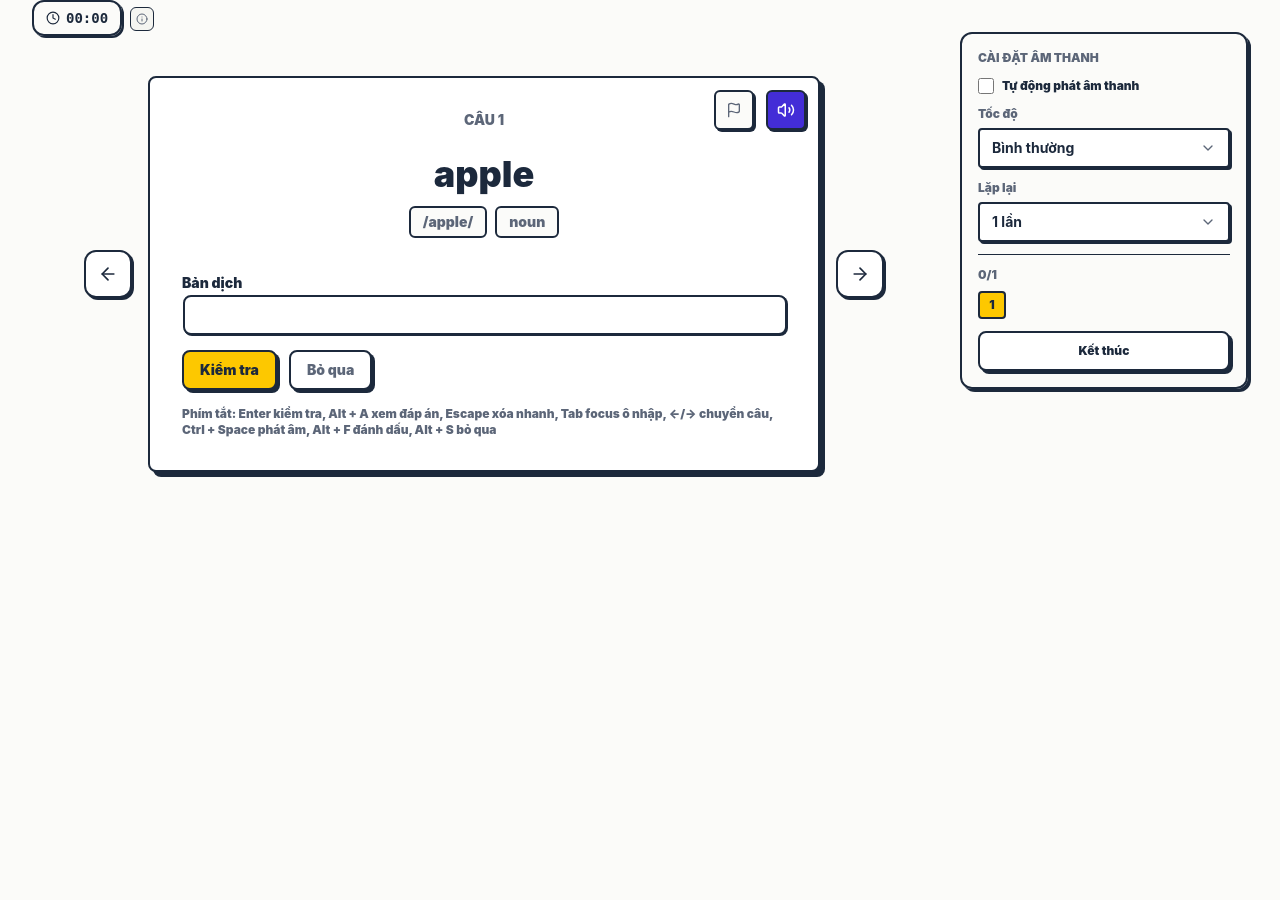
Test: QuizSessionPage › reveals the answer with Alt+R after an incorrect try
This screenshot has width=1280, height=900.
Type "chuối" into the field labelled "Bản dịch" at (485, 315), box [183, 295, 787, 335]
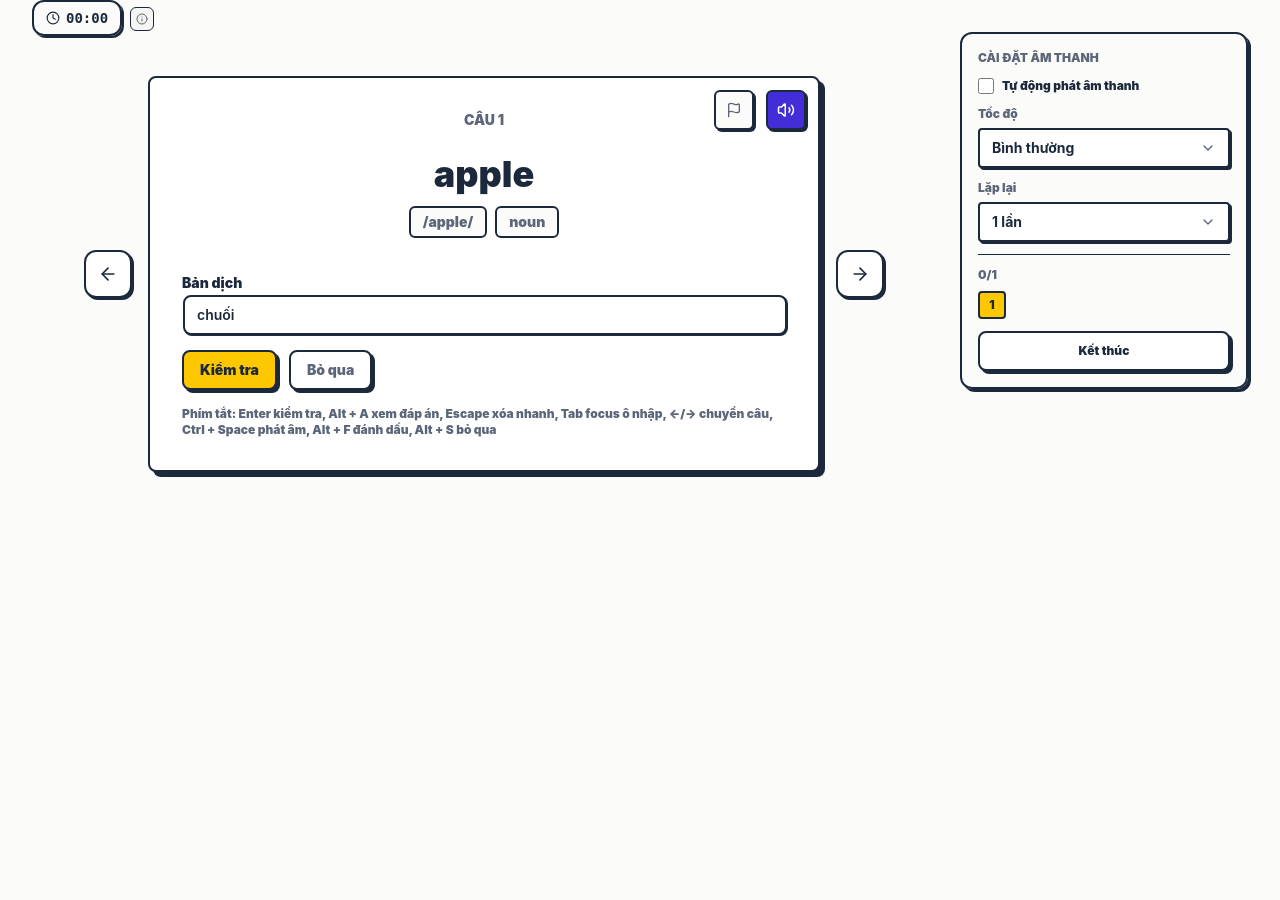
Click the button "Kiểm tra" at (229, 370), box [182, 350, 277, 390]
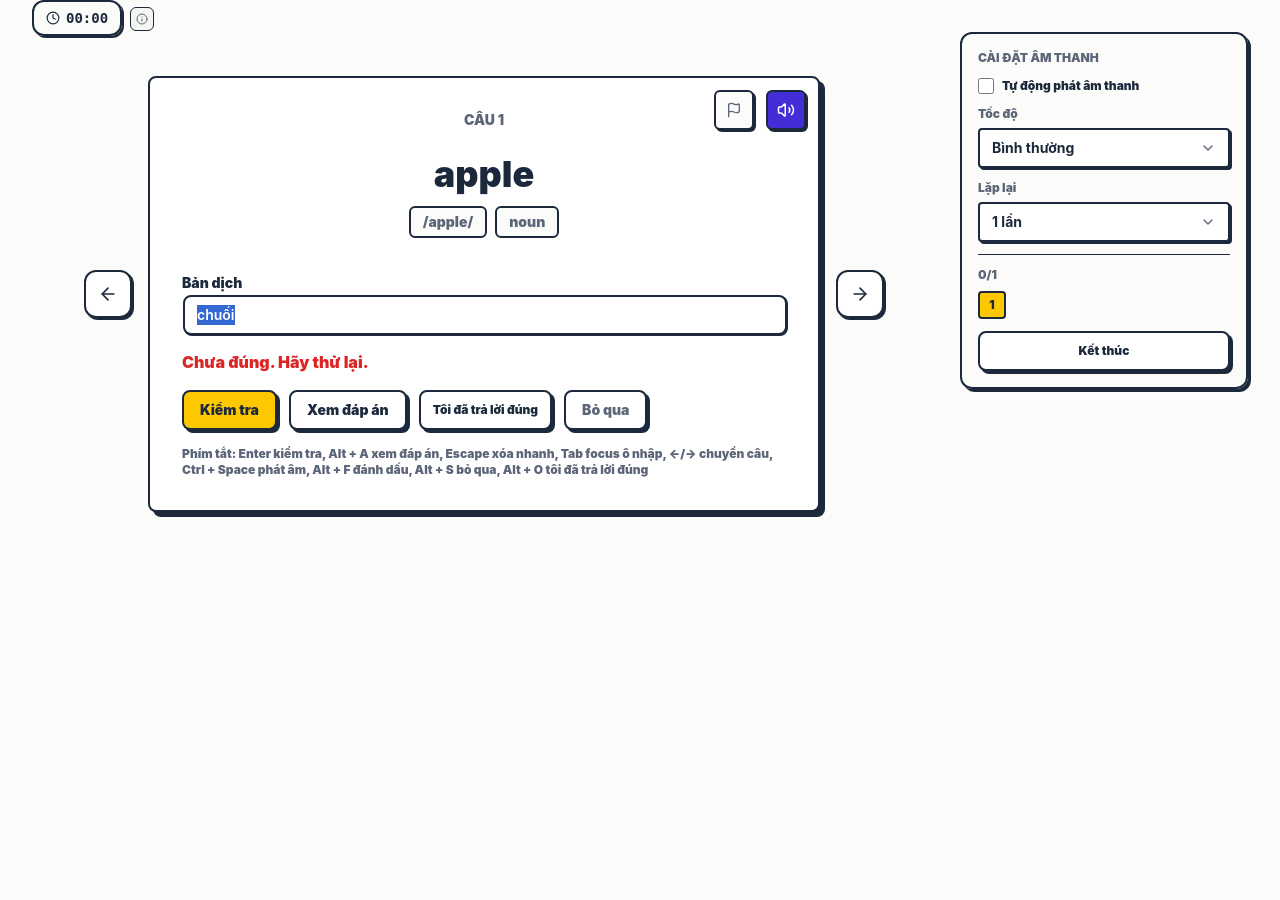
Type keys "{Alt>}a{/Alt}"
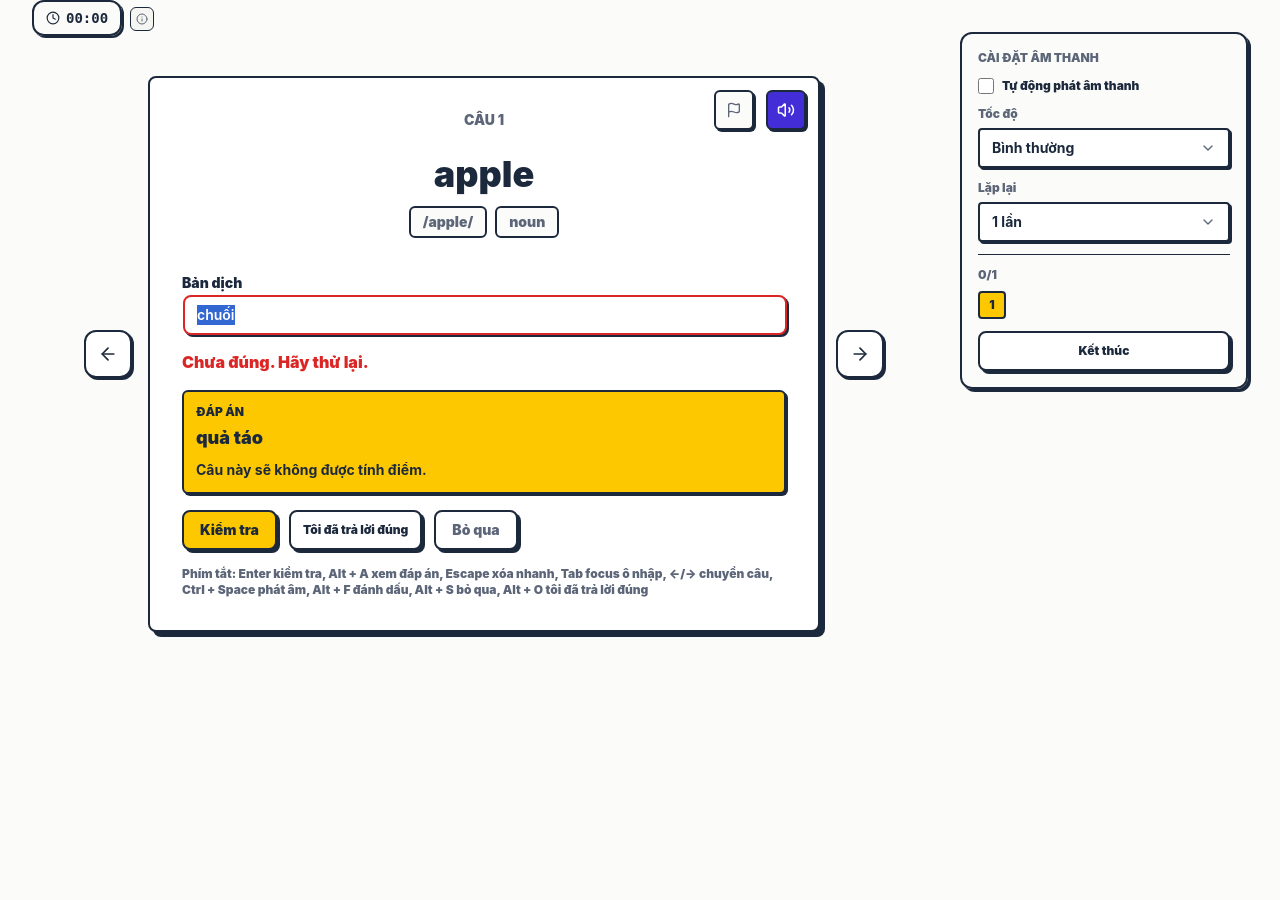
Expected: the text "quả táo" is shown, [196, 427, 263, 448]
Expected: the text "Câu này sẽ không được tính điểm." is shown, [196, 461, 427, 478]
